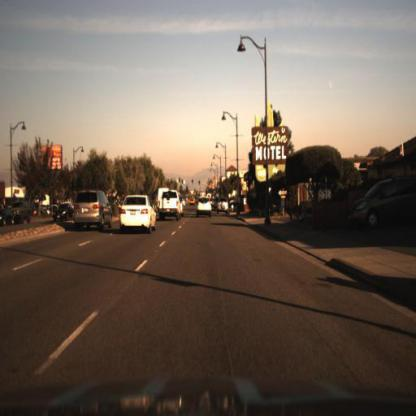car: (351, 174, 416, 231), (72, 189, 112, 230), (119, 191, 158, 233), (159, 187, 184, 224), (9, 200, 34, 227), (52, 203, 77, 224), (196, 196, 215, 220), (217, 196, 231, 215)
